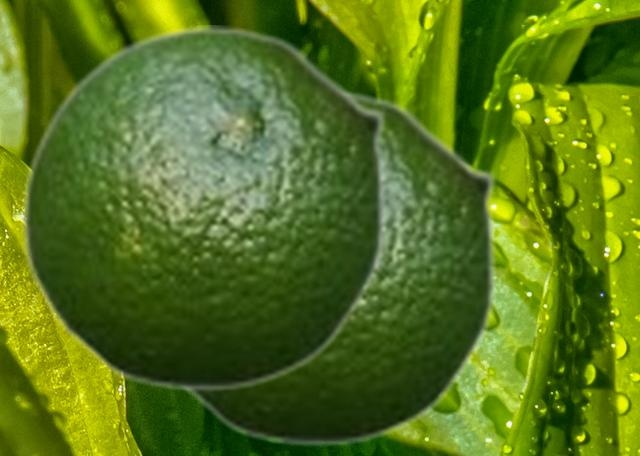calamansi: (21, 25, 388, 392), (181, 89, 498, 447)
